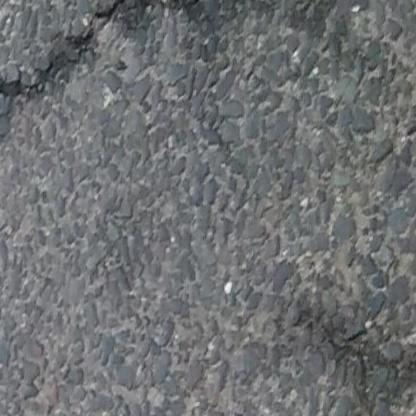Cracks: (0, 0, 131, 114), (292, 314, 416, 416), (181, 0, 216, 9)
